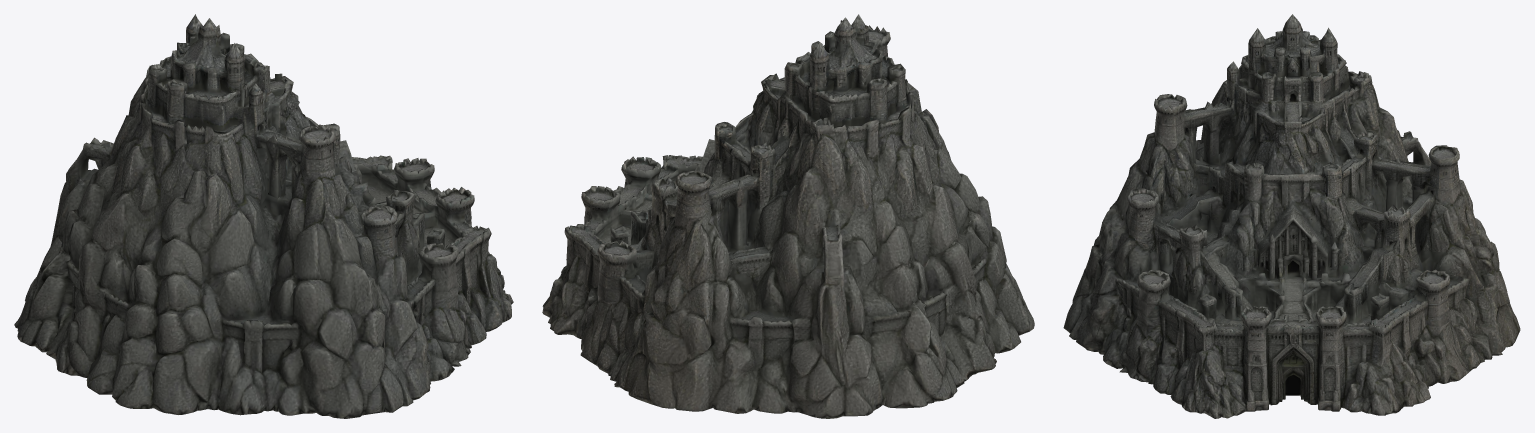
The model's file is dwarf-5.glb.
3 renders of one model, left to right at view 1: azimuth 30°, elevation 25°; view 2: azimuth 150°, elevation 25°; view 3: azimuth 270°, elevation 25°, orthographic. The views are drawn at different scales.
Parts seen in each view (by area): view 1: tripo_node_8154f5e7-03f2-4b71-8c61-56559896a89f; view 2: tripo_node_8154f5e7-03f2-4b71-8c61-56559896a89f; view 3: tripo_node_8154f5e7-03f2-4b71-8c61-56559896a89f.
Boxes of the visible parts, x1,y1,x2,y2 form: tripo_node_8154f5e7-03f2-4b71-8c61-56559896a89f: (14, 14, 513, 418); tripo_node_8154f5e7-03f2-4b71-8c61-56559896a89f: (542, 14, 1034, 418); tripo_node_8154f5e7-03f2-4b71-8c61-56559896a89f: (1063, 14, 1520, 418).
Size of the model in its own units: 0.948 by 0.6974 by 1.
Materials: 1 (1 with a texture image).
